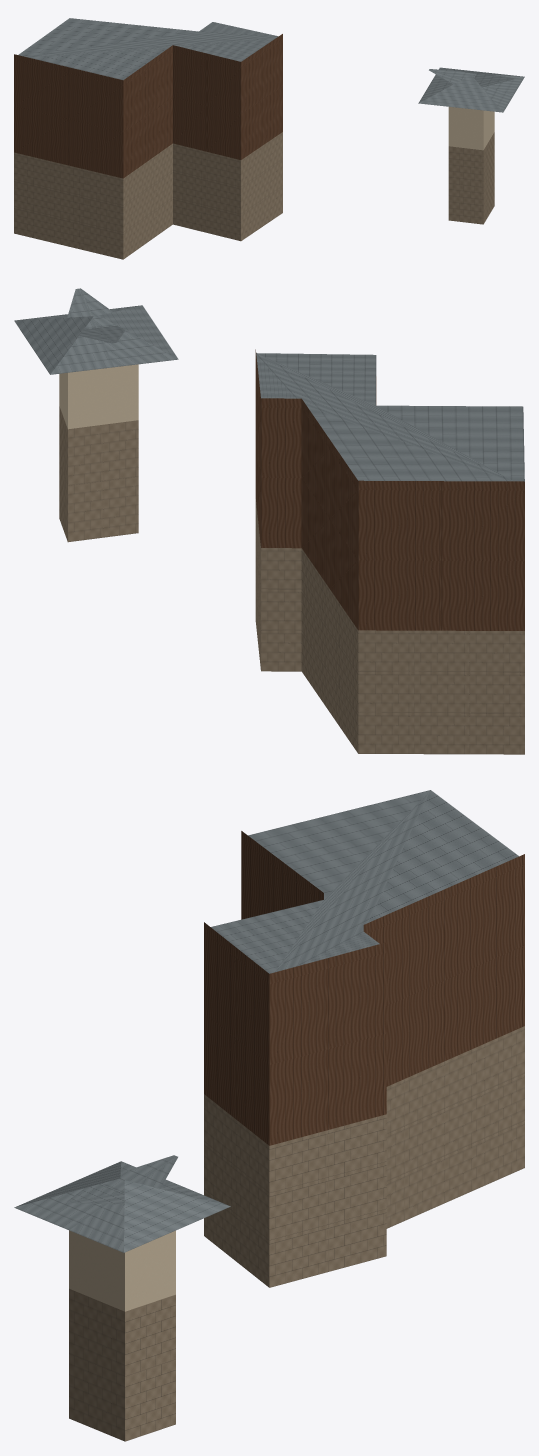
File: bld_c10_17_434.gltf
The picture shows the model from 3 angles, top to bottom: view 1: azimuth 30°, elevation 25°; view 2: azimuth 150°, elevation 25°; view 3: azimuth 270°, elevation 25°; orthographic projection. The views are drawn at different scales.
Parts seen in each view (by area): view 1: bld_c10_17_434; view 2: bld_c10_17_434; view 3: bld_c10_17_434.
Boxes of the visible parts, x1,y1,x2,y2 form: bld_c10_17_434: [14, 18, 524, 259]; bld_c10_17_434: [14, 288, 524, 754]; bld_c10_17_434: [14, 790, 524, 1441].
Size of the model in its own units: 27.86 by 11.58 by 16.63.
5 materials, 5 textured.
